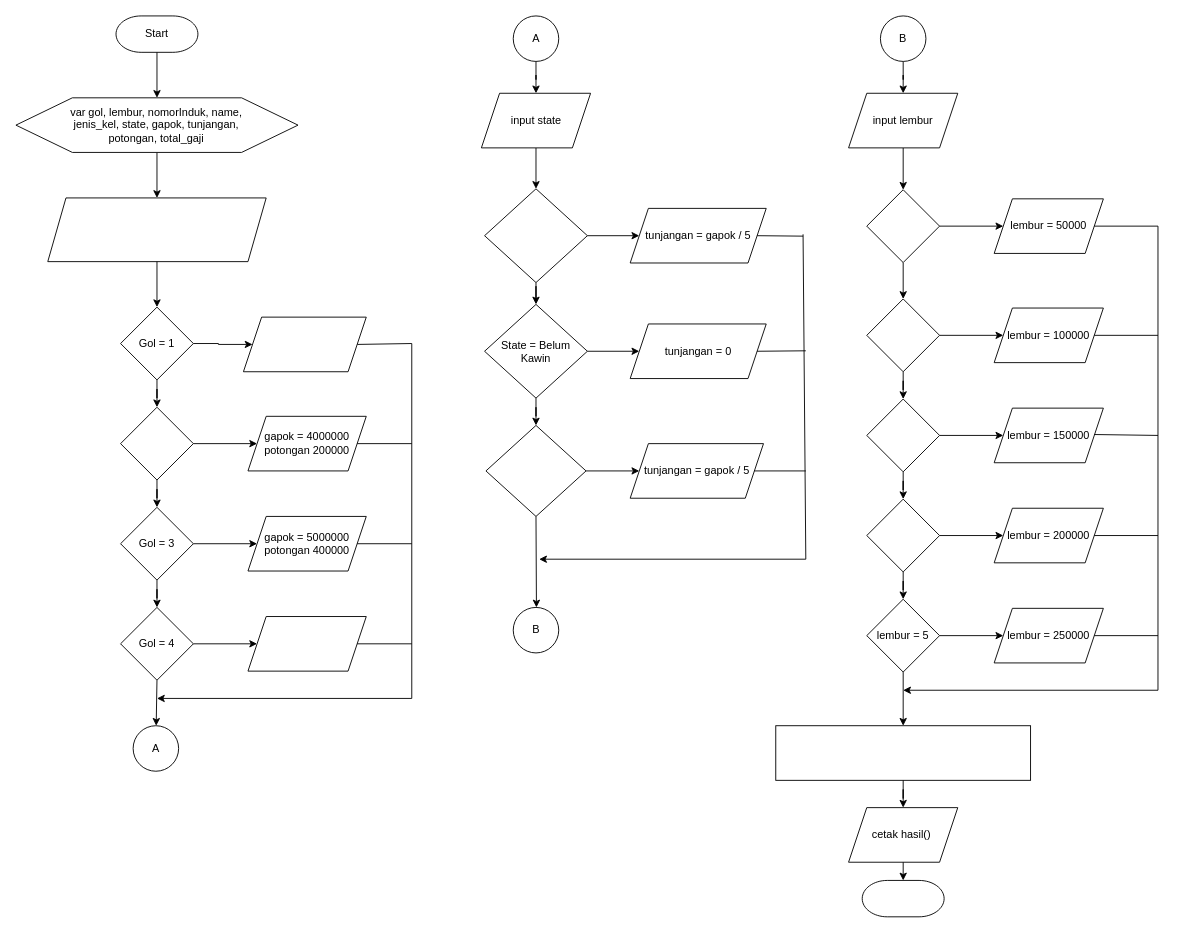
This 1181x933 diagram has some shape labels left out. The centre of each missing label's shape, as x and y in pixels:
End: the point at 902,898
gapok = 3000000 potongan 100000: the point at 304,344
gapok = 6000000 potongan 600000: the point at 306,643
Gol = 2: the point at 156,443
input nomorInduk, name, jenis_kel, gol: the point at 156,229
lembur = 1: the point at 903,226
lembur = 2: the point at 903,335
lembur = 3: the point at 903,435
lembur = 4: the point at 903,535
State = Kawin: the point at 535,235
State = Single Parent: the point at 535,470
total_gaji = (gapok + tunjangan + lembur) - potongan: the point at 903,752
